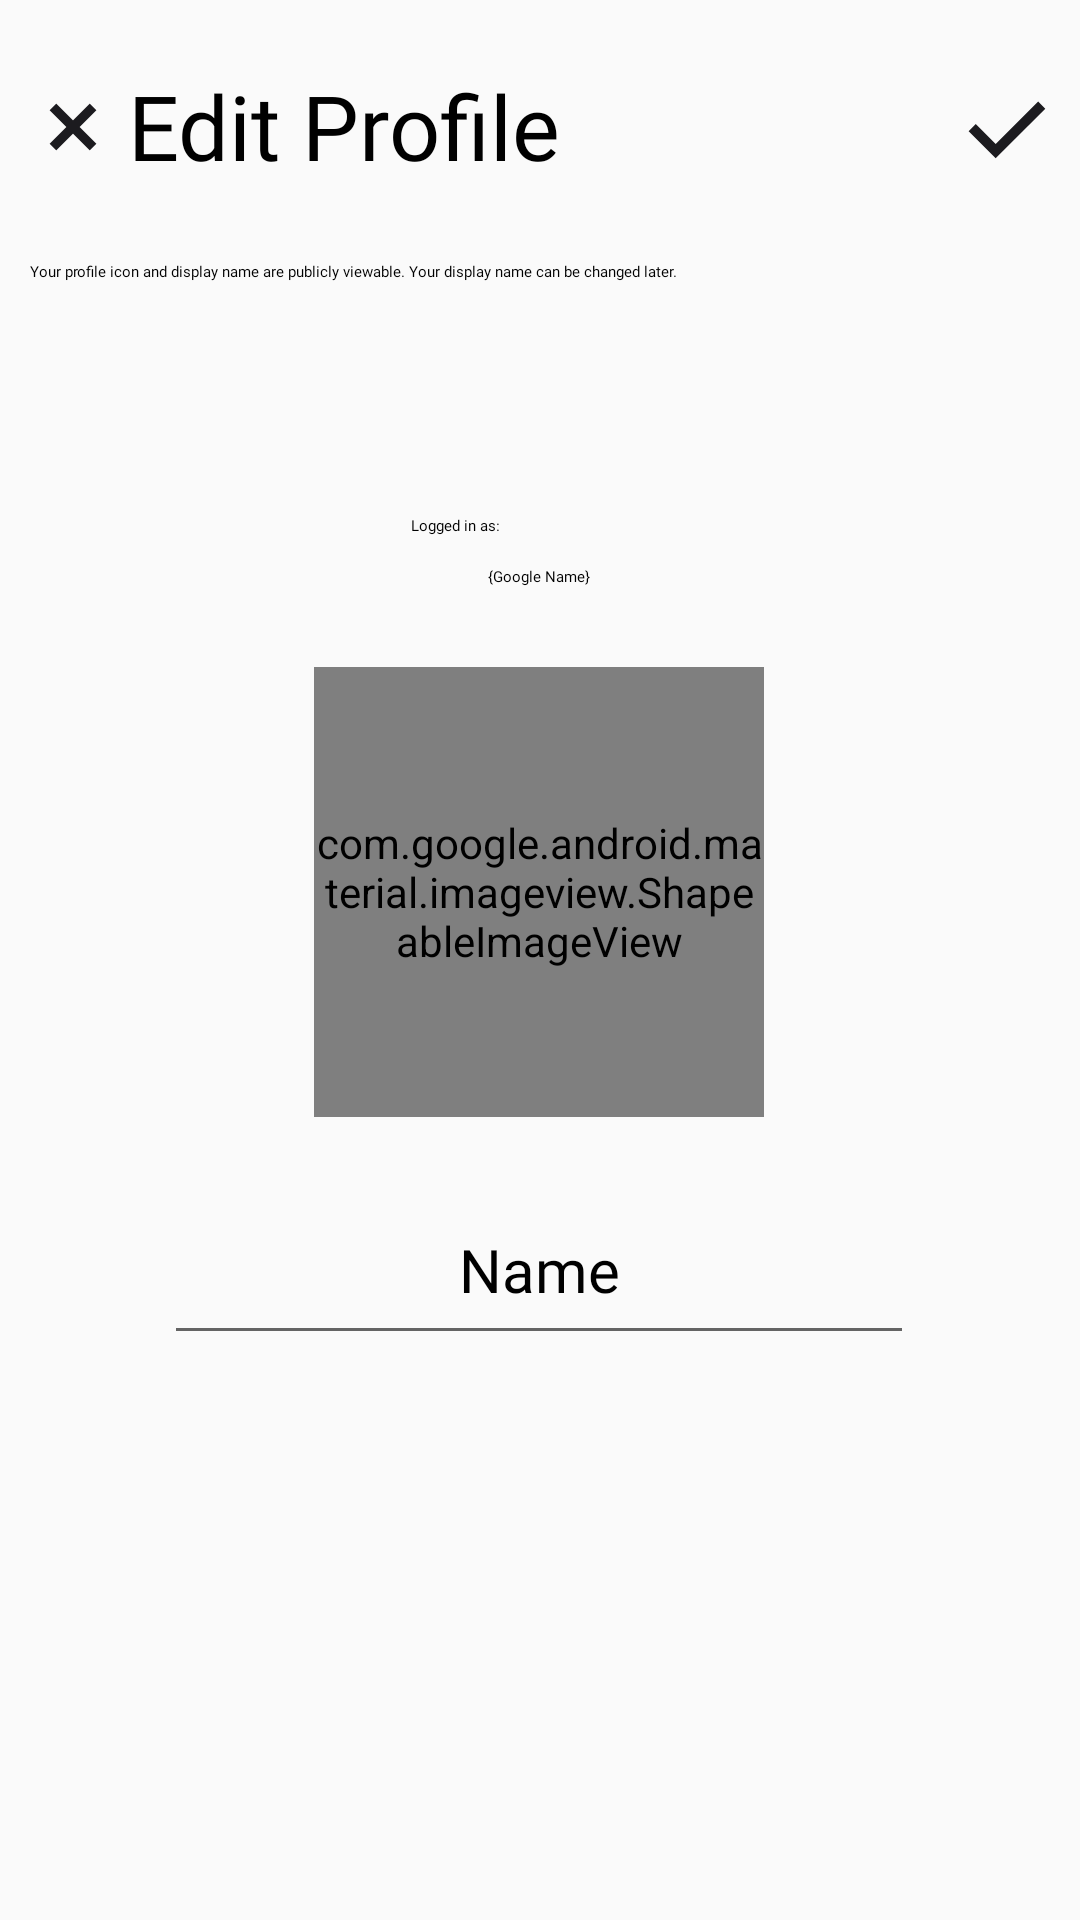

Icon click points for this 1080×1920 phone screenshot, format point (x, y):
check: point (1006, 129)
close: point (73, 127)
